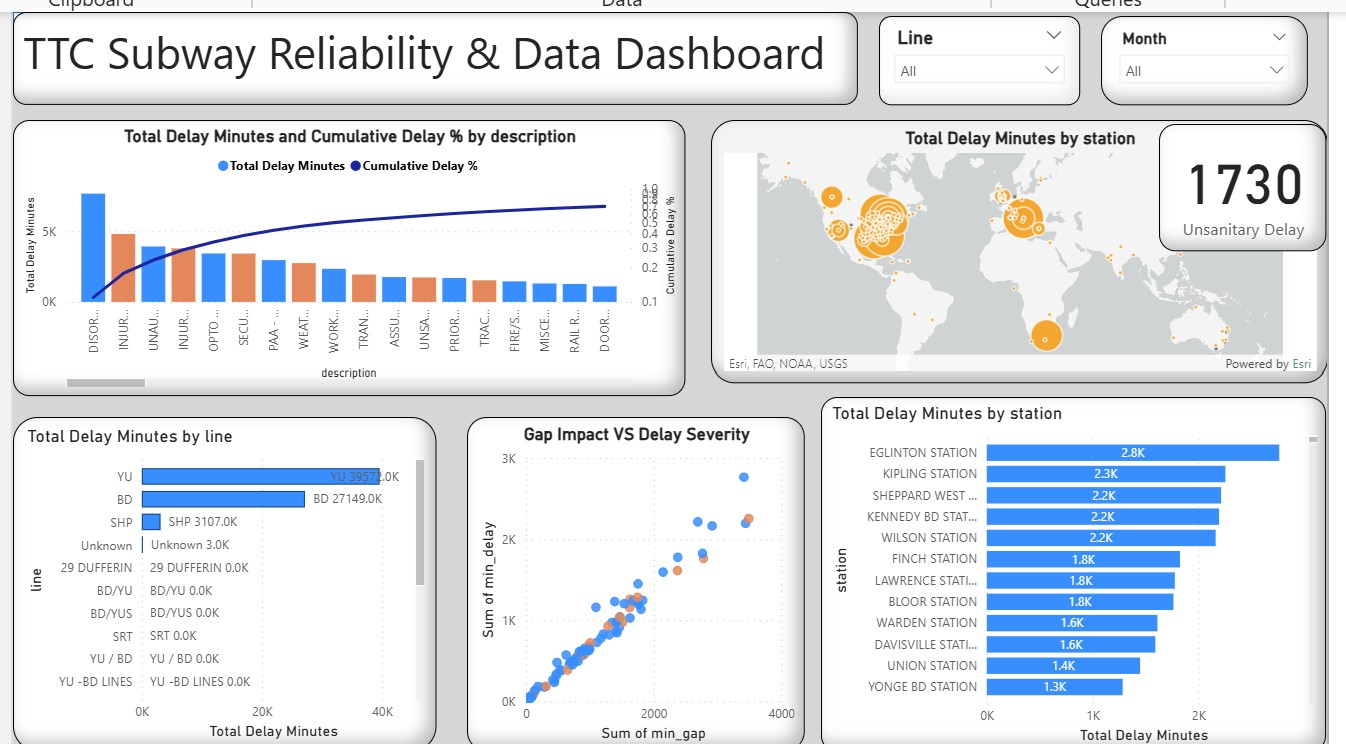

The page's visual inventory and layout, read from the dashboard file:
{"tool":"powerbi","page":{"name":"Root Cause Analysis","canvas":[1280,720],"ordinal":1},"visuals":[{"type":"shape","box":[0,0,752.8,75.8],"z":0},{"type":"textbox","box":[0,0,823.1,90.6],"z":1000},{"type":"slicer","fields":{"Values":["delay_analysis_data.line"]},"box":[843.5,3.7,196.1,86.9],"z":2000},{"type":"slicer","fields":{"Values":["delay_analysis_data.month"]},"box":[1059.9,3.7,201.6,86.9],"z":3000},{"type":"lineStackedColumnComboChart","fields":{"Category":["delay_analysis_data.description"],"Y":["delay_analysis_data.Total Delay Minutes"],"Y2":["delay_analysis_data.Cumulative Delay %"]},"box":[0,105.4,654.8,268.2],"z":4000},{"type":"scatterChart","title":"Gap Impact VS Delay Severity","fields":{"X":["Sum(delay_analysis_data.min_gap)"],"Y":["Sum(delay_analysis_data.min_delay)"],"Category":["delay_analysis_data.station"]},"box":[442.1,394,329.2,325.5],"z":5000},{"type":"esriVisual","fields":{"Location":["delay_analysis_data.station"],"Size":["delay_analysis_data.Total Delay Minutes"]},"box":[680.7,105.4,601.2,255.3],"z":6000},{"type":"card","fields":{"Values":["delay_analysis_data.Unsanitary Delay"]},"box":[1117.2,109.1,162.8,123.9],"z":7000},{"type":"clusteredBarChart","fields":{"Category":["delay_analysis_data.station"],"Y":["delay_analysis_data.Total Delay Minutes"]},"box":[788,373.6,492,345.9],"z":8000},{"type":"clusteredBarChart","fields":{"Y":["delay_analysis_data.Total Delay Minutes"],"Category":["delay_analysis_data.line"]},"box":[0,394,412.5,325.5],"z":9000}]}

Visuals, with their boxes in screenshot pixels (x1, y1, x2, y2):
shape: 14, 7, 780, 84
textbox: 14, 7, 852, 99
slicer - delay_analysis_data.line: 873, 11, 1072, 99
slicer - delay_analysis_data.month: 1093, 11, 1298, 99
lineStackedColumnComboChart - delay_analysis_data.description x delay_analysis_data.Total Delay Minutes: 14, 114, 680, 387
"Gap Impact VS Delay Severity" scatterChart: 464, 408, 799, 739
esriVisual - delay_analysis_data.station x delay_analysis_data.Total Delay Minutes: 707, 114, 1319, 374
card - delay_analysis_data.Unsanitary Delay: 1151, 118, 1317, 244
clusteredBarChart - delay_analysis_data.station x delay_analysis_data.Total Delay Minutes: 816, 387, 1317, 739
clusteredBarChart - delay_analysis_data.Total Delay Minutes x delay_analysis_data.line: 14, 408, 434, 739
